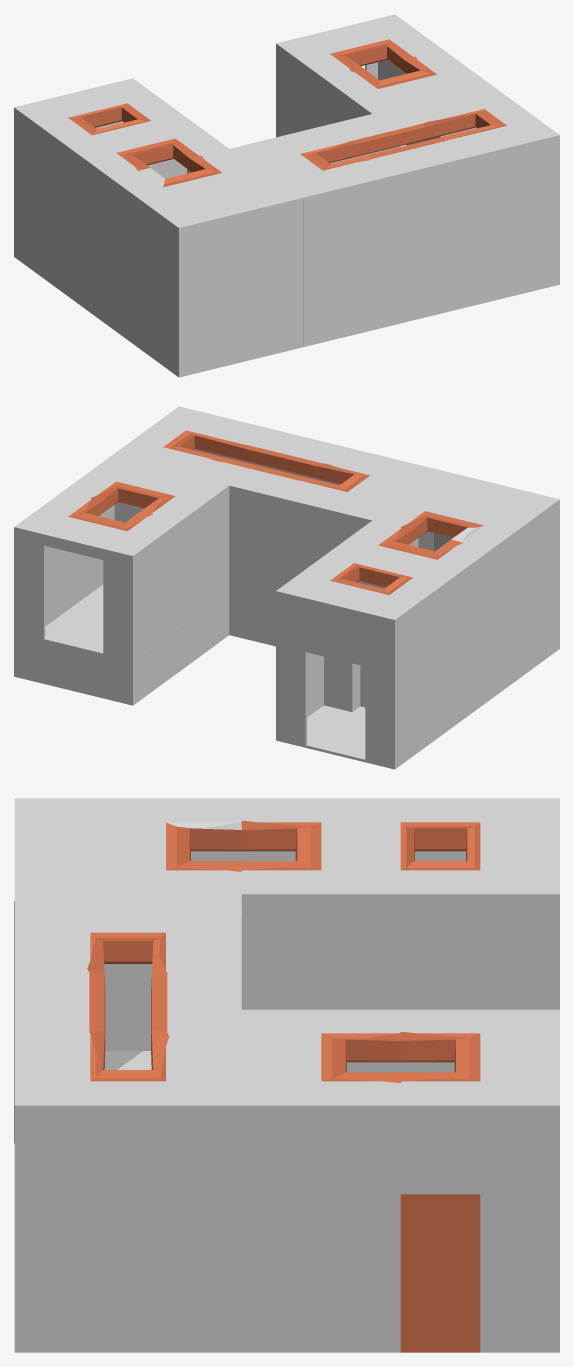
Rendered from Room8.fbx.
The picture shows the model from 3 angles, top to bottom: view 1: azimuth 30°, elevation 25°; view 2: azimuth 150°, elevation 25°; view 3: azimuth 270°, elevation 25°; orthographic projection. The views are drawn at different scales.
Parts seen in each view (by area): view 1: Room8, Ground, Cube.003, Cube; view 2: Room8, Platform, Cube.005, Ground, Cube.010; view 3: Room8, Cube.003, Cube.001, Ground, Cube.002, Cube.006, Cube, Cube.007.
Boxes of the visible parts, x1=… form: Room8: x1=14, y1=14, x2=559, y2=377; Ground: x1=179, y1=282, x2=559, y2=377; Cube.003: x1=252, y1=143, x2=323, y2=340; Cube: x1=73, y1=133, x2=186, y2=178; Room8: x1=14, y1=406, x2=559, y2=769; Platform: x1=45, y1=584, x2=215, y2=705; Cube.005: x1=45, y1=504, x2=114, y2=626; Ground: x1=306, y1=705, x2=365, y2=759; Cube.010: x1=324, y1=656, x2=360, y2=711; Room8: x1=14, y1=798, x2=559, y2=1352; Cube.003: x1=104, y1=912, x2=241, y2=1050; Cube.001: x1=278, y1=1105, x2=287, y2=1352; Ground: x1=14, y1=1051, x2=278, y2=1352; Cube.002: x1=238, y1=1312, x2=278, y2=1348; Cube.006: x1=347, y1=1062, x2=454, y2=1072; Cube: x1=373, y1=800, x2=382, y2=1009; Cube.007: x1=14, y1=901, x2=142, y2=1143.
Size of the model in its own units: 16004 by 6037 by 12018.
